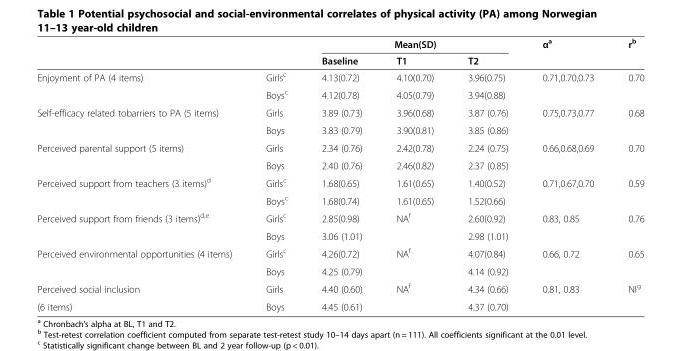table: (36, 36, 643, 311)
table column: (36, 36, 248, 311), (524, 36, 610, 311), (304, 36, 378, 311), (450, 36, 524, 311), (378, 36, 450, 311), (248, 36, 304, 311), (610, 36, 643, 311)
table column header: (36, 36, 643, 67)
table row: (36, 208, 643, 227), (36, 243, 643, 262), (36, 67, 643, 85), (36, 85, 643, 103), (36, 103, 643, 121), (36, 138, 643, 156), (36, 190, 643, 208), (36, 279, 643, 297), (36, 121, 643, 138), (36, 156, 643, 173), (36, 173, 643, 190), (36, 262, 643, 279), (36, 36, 643, 52), (36, 227, 643, 243), (36, 52, 643, 67), (36, 297, 643, 311)
table spanning cell: (36, 67, 248, 103), (36, 243, 248, 279), (36, 103, 248, 138), (36, 138, 248, 173), (36, 173, 248, 208), (36, 208, 248, 243), (304, 36, 524, 52), (524, 67, 610, 103), (524, 243, 610, 279), (524, 103, 610, 138), (524, 138, 610, 173), (524, 173, 610, 208), (524, 208, 610, 243), (524, 36, 610, 67), (378, 243, 450, 279), (378, 208, 450, 243), (610, 67, 643, 103), (610, 243, 643, 279), (610, 103, 643, 138), (610, 138, 643, 173), (610, 173, 643, 208), (610, 208, 643, 243), (610, 36, 643, 67)
